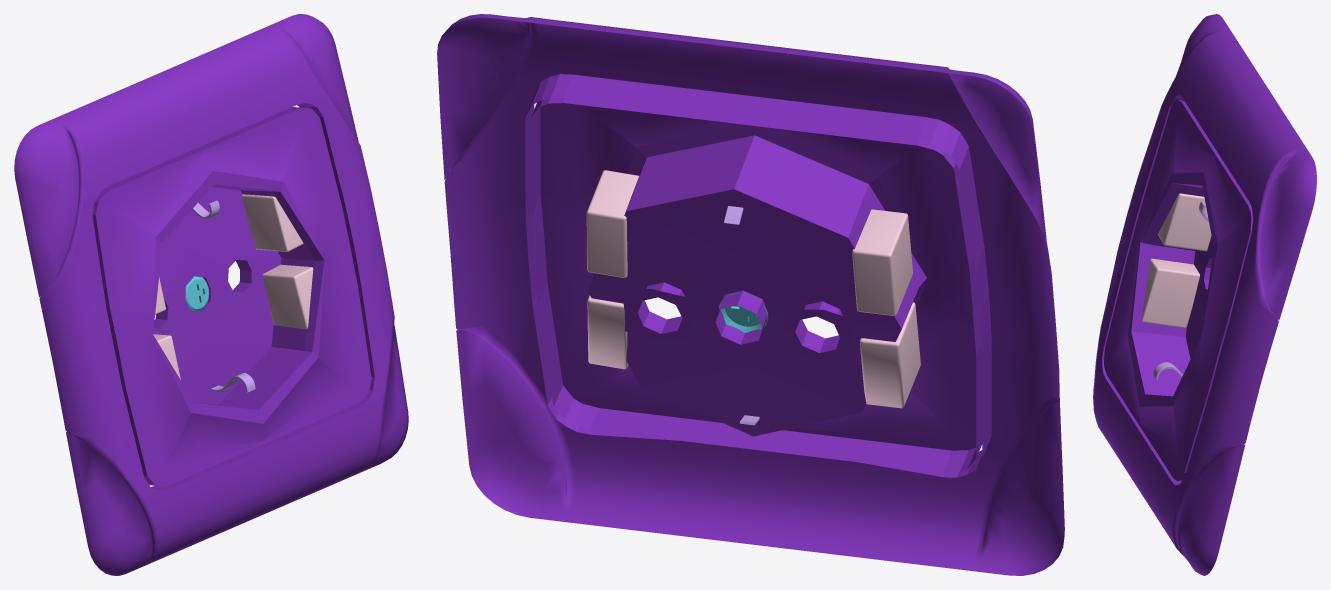
The model's file is PriseElec(old).fbx.
3 views of the same model, side by side, from view 1: azimuth 30°, elevation 25°; view 2: azimuth 150°, elevation 25°; view 3: azimuth 270°, elevation 25° (orthographic). The views are drawn at different scales.
Visible parts, largest first — view 1: obj_rozetka; view 2: obj_rozetka; view 3: obj_rozetka.
Part boxes in pixels (x1,y1,x2,y2): obj_rozetka: (14,14,408,575); obj_rozetka: (437,14,1064,575); obj_rozetka: (1093,14,1316,575).
Bounding box in the file's own units: 612 × 608 × 306.
